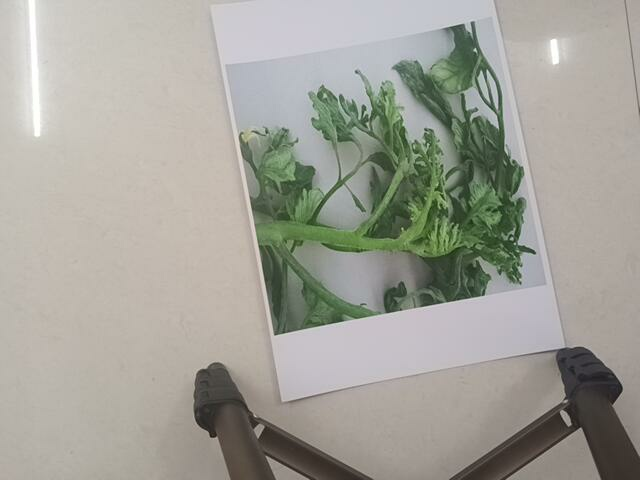Tomamto_Mosaic_virus: (237, 35, 546, 287)
